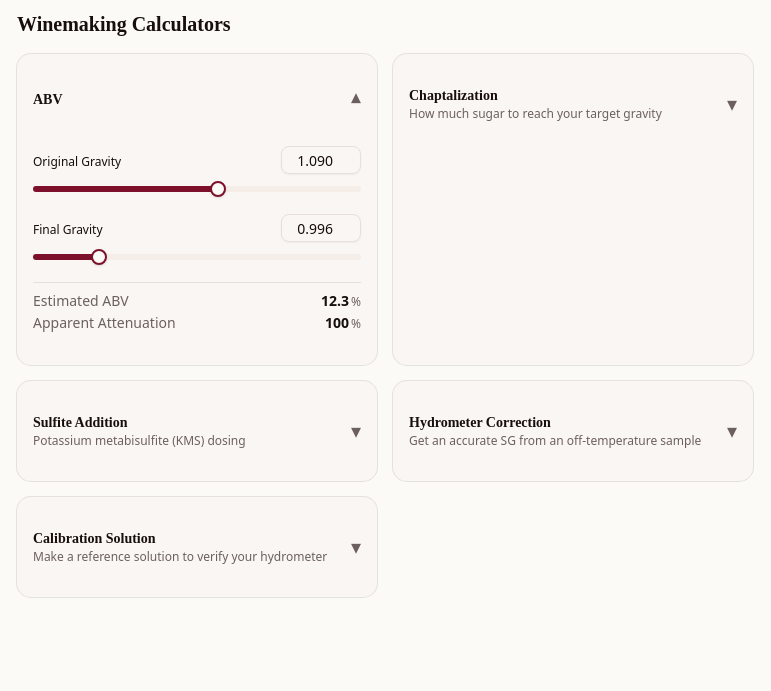
Tools page › clicking a collapsed calculator expands it
# Click Chaptalization header to expand
Click the heading "Chaptalization" at (453, 96), box [409,88,498,103]
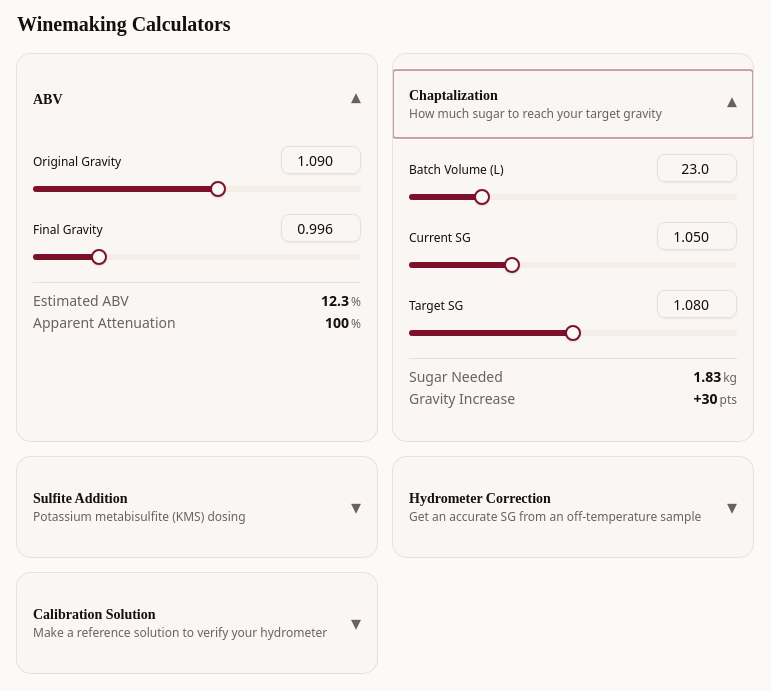
Check: the text "Current SG" is shown, box [409,230,471,246]
Check: the text "Target SG" is shown, box [409,298,463,314]
